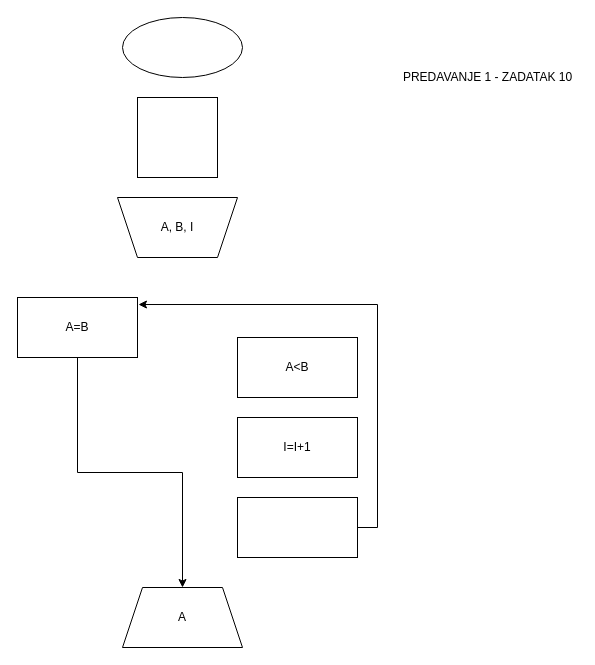
Image size: 595x665. Some labels were removed from this diagram. Each missing label, with the centre of its shape:
A=A+I: the point at 297,527
A=INTEGER B=INTEGER I=INTEGER: the point at 177,137
START: the point at 182,47
